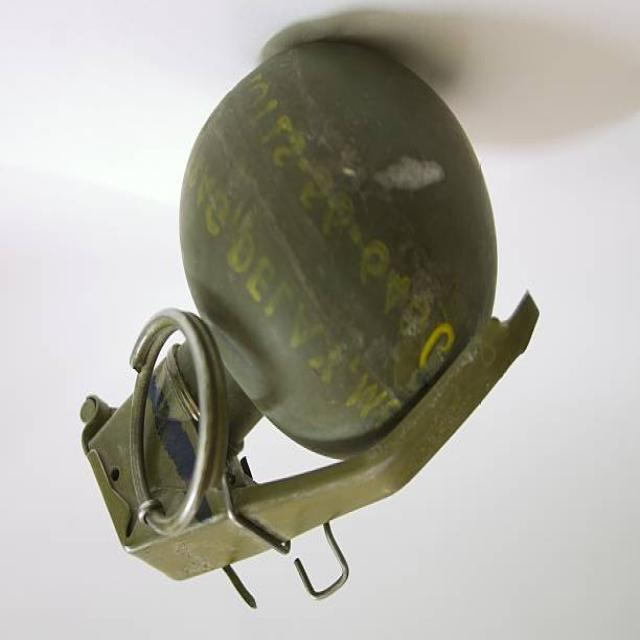grenade: (74, 36, 546, 616)
